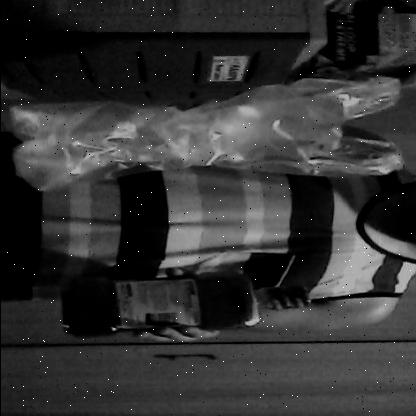Plastic Bottle: (45, 259, 322, 342)
